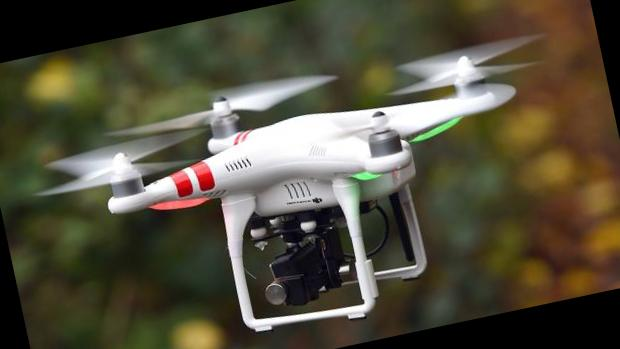drone: (30, 10, 558, 281)
